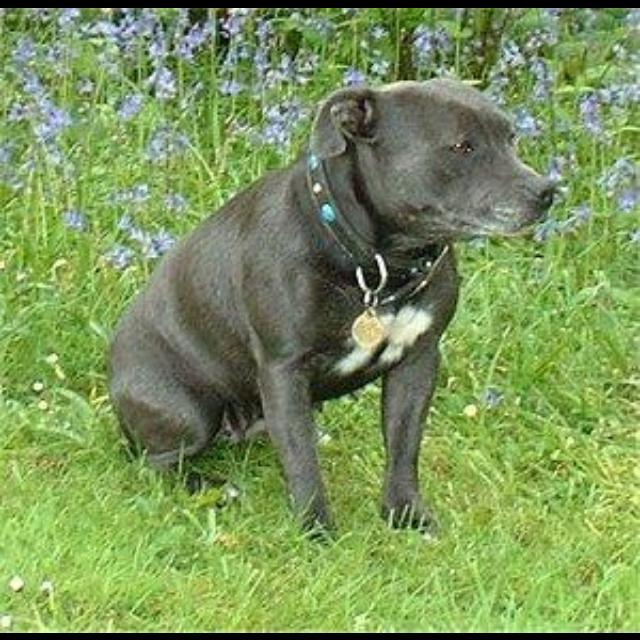amstaff: (104, 75, 560, 544)
